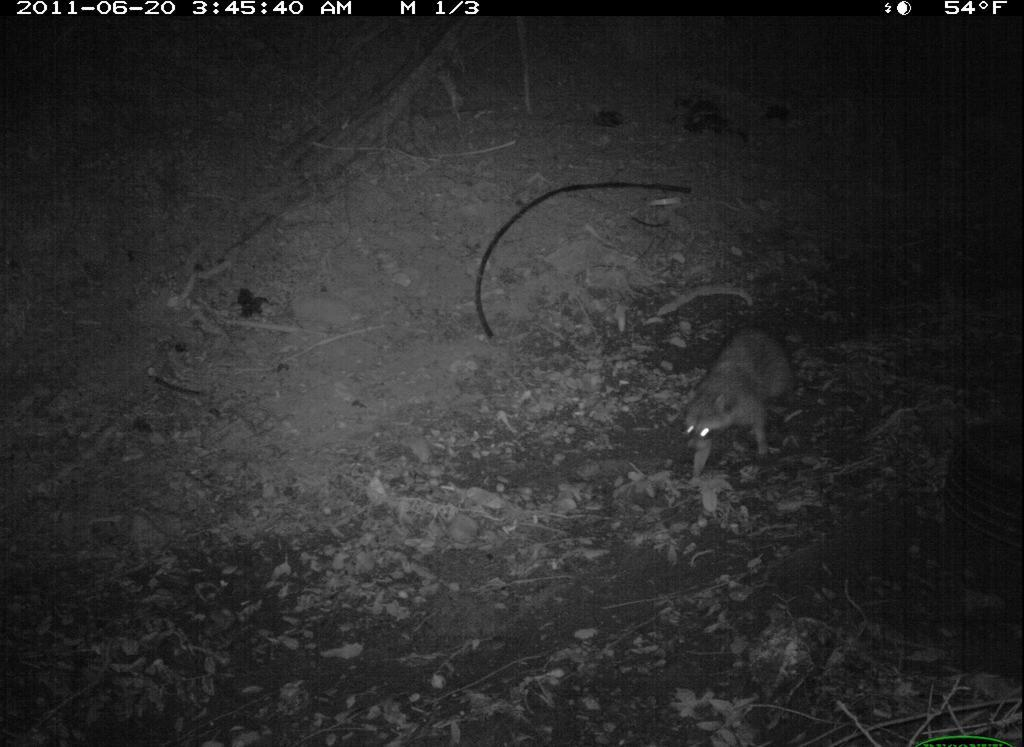raccoon: (662, 315, 811, 487)
